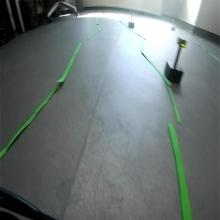green: (177, 34, 188, 48)
